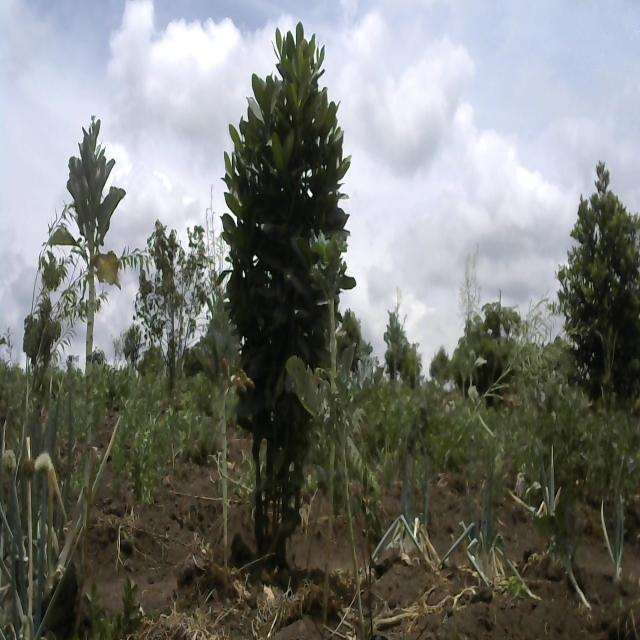other: (208, 23, 358, 589)
